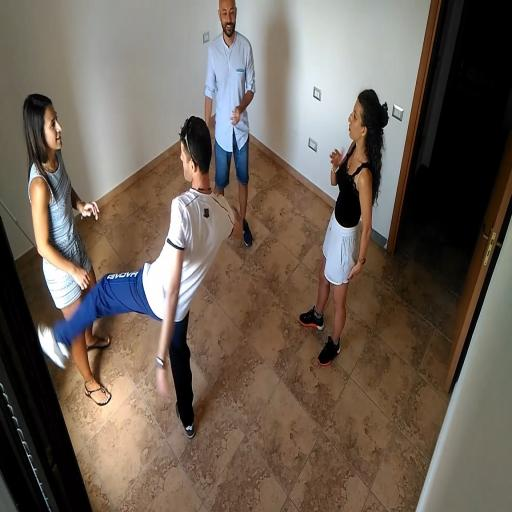chutar: (19, 90, 242, 454)
